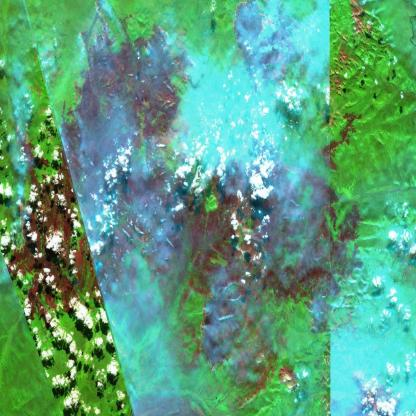fire: (226, 0, 271, 63), (175, 24, 196, 88), (10, 118, 36, 167), (198, 288, 215, 360), (11, 196, 29, 262)
